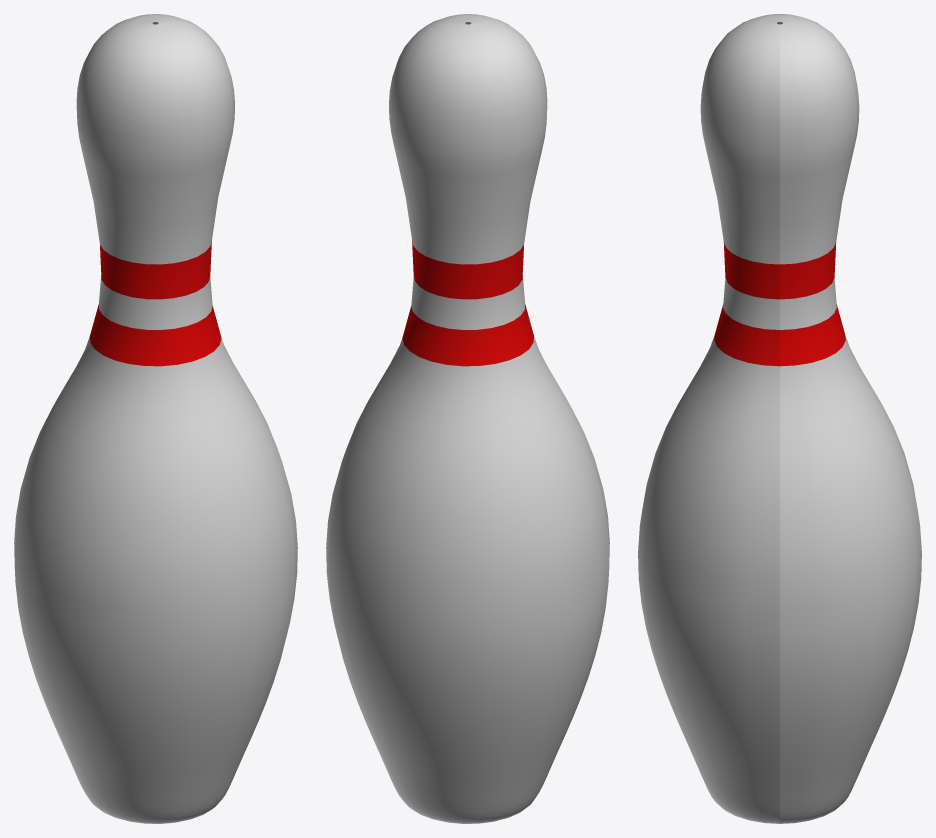
Rendered from bowlingPin.fbx.
3 views of the same model, side by side, from view 1: azimuth 30°, elevation 25°; view 2: azimuth 150°, elevation 25°; view 3: azimuth 270°, elevation 25° (orthographic).
Visible parts, largest first — view 1: BezierCurve; view 2: BezierCurve; view 3: BezierCurve.
Part boxes in pixels (<box>): BezierCurve: <box>14,14,297,823</box>; BezierCurve: <box>326,14,609,823</box>; BezierCurve: <box>638,14,921,823</box>.
Size of the model in its own units: 7.09 by 21.45 by 7.1.
